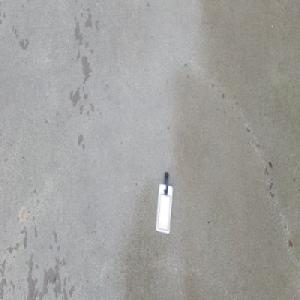LuggageTag: (155, 170, 173, 234)
